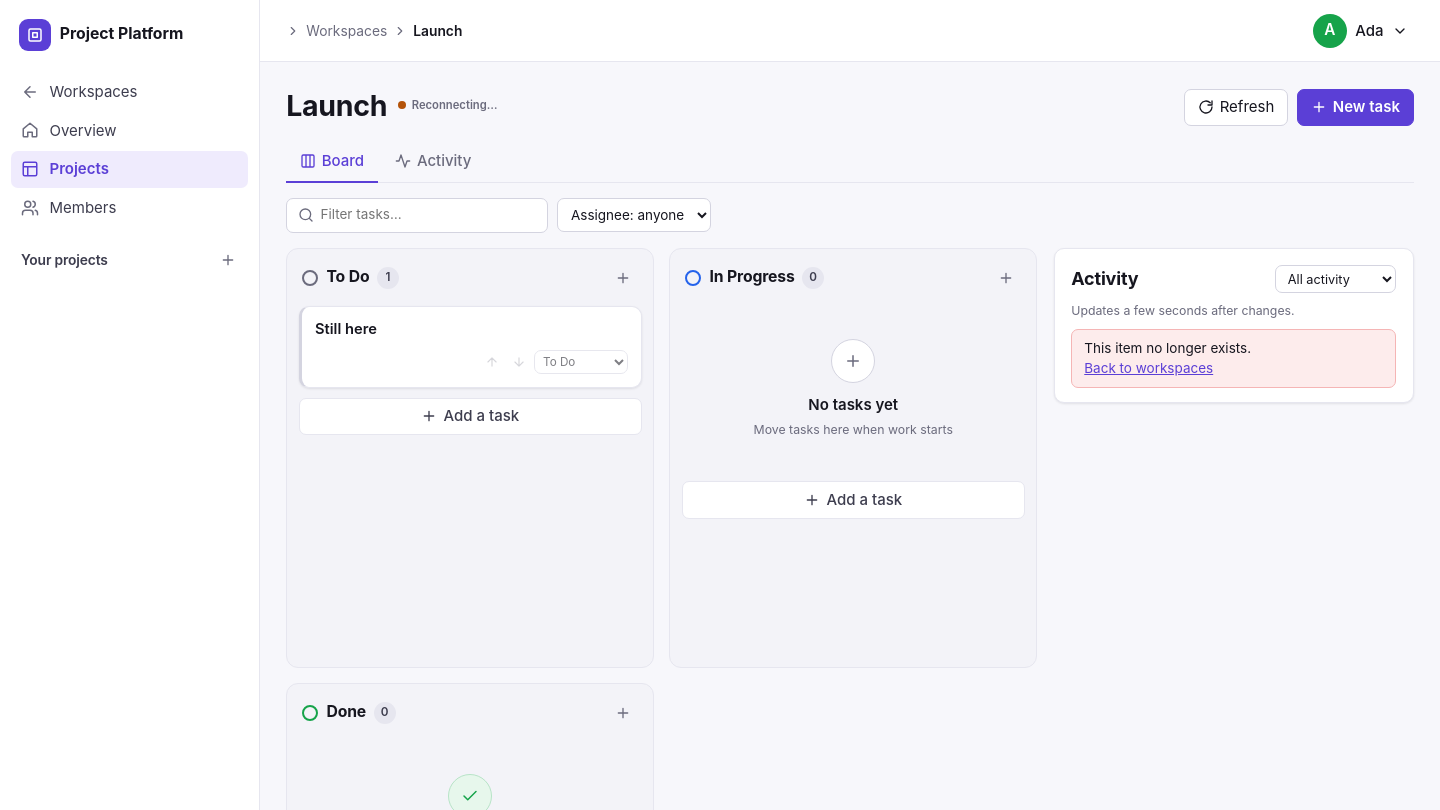
it: board › keeps the last loaded board visible when a refresh fails
Check: the button "Still here" is shown, box [315,319,628,340]
Click the button "Refresh": point(1236, 107) [1184,89,1288,126]
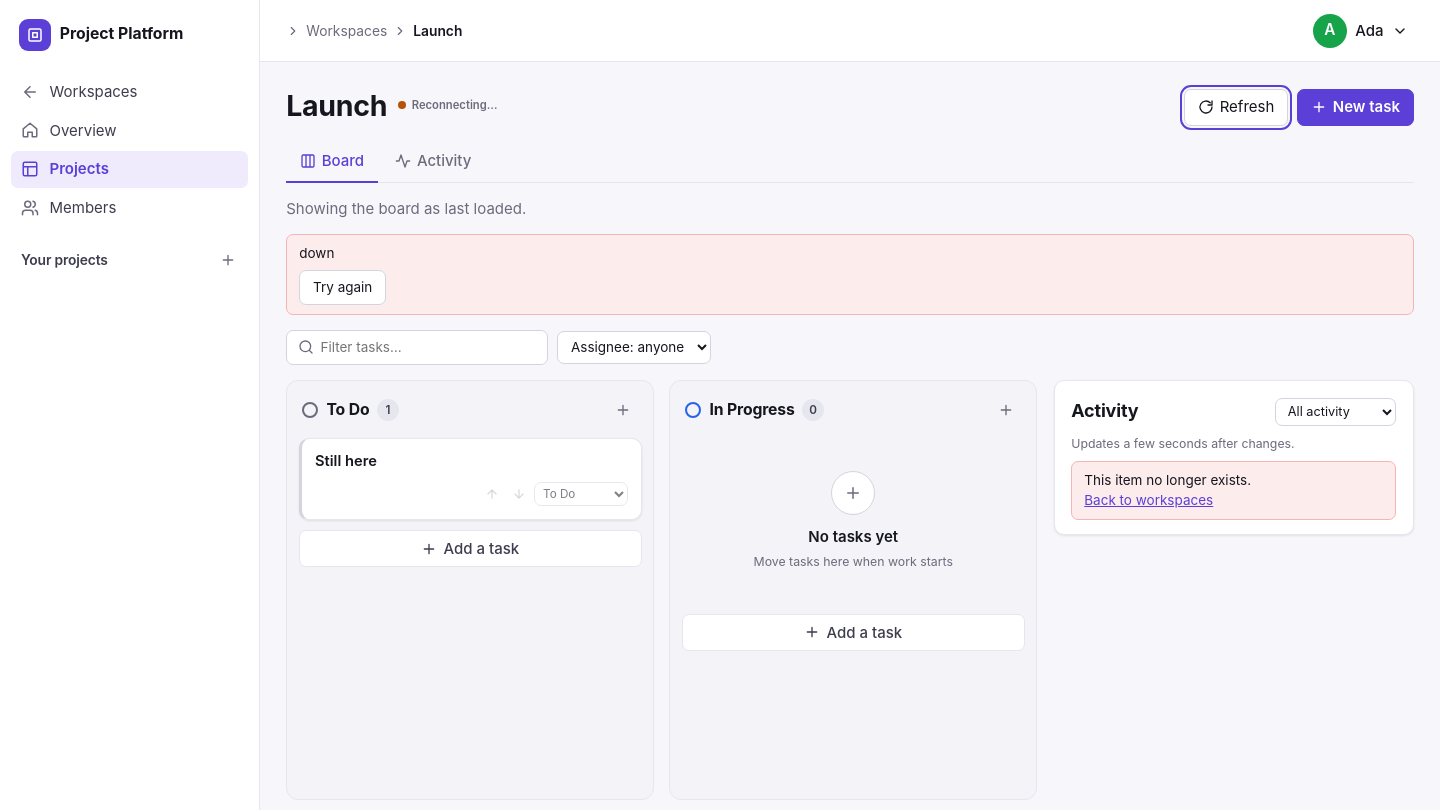
Check: the button "Still here" is shown, box [315,451,628,472]
Check: the text "Showing the board as last loaded." is shown, box [286,199,526,218]
